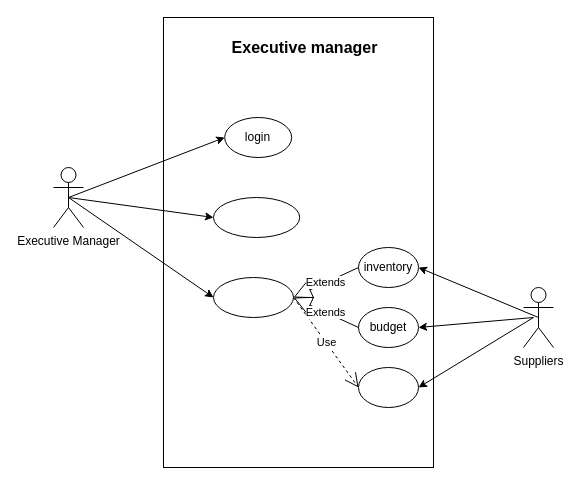
Some shapes in this 581 by 485 pixel diagram are drawn without their labels. Each missing label, with the centre of its shape:
"manage stores" goes at pixel 253 297.
"manage users" goes at pixel 256 217.
"sales" goes at pixel 388 387.
